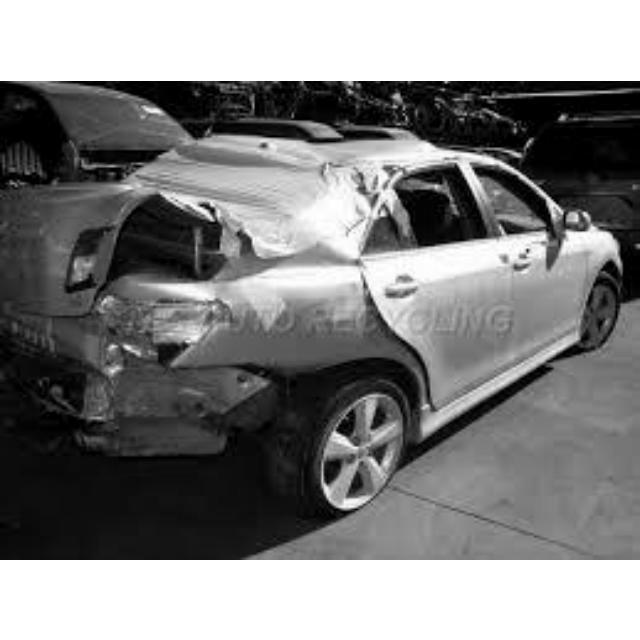boot-dent: (50, 145, 282, 280)
rear-bumper-dent: (3, 300, 195, 428)
